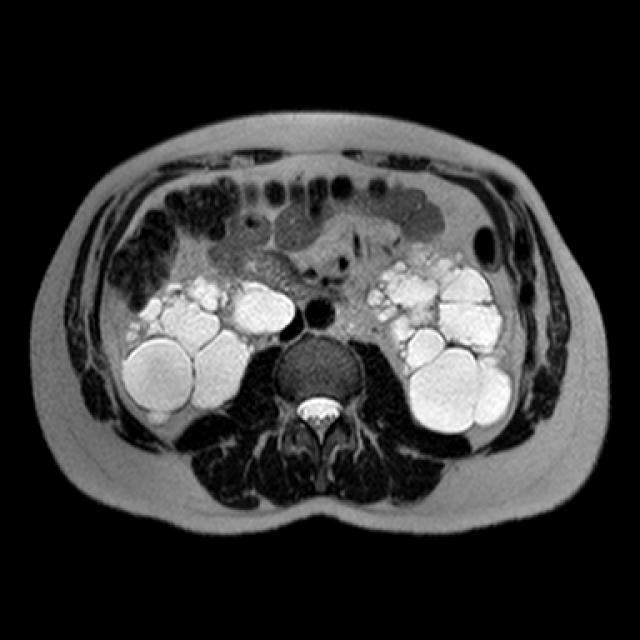sag: (118, 267, 300, 427)
sol: (363, 241, 515, 434)
